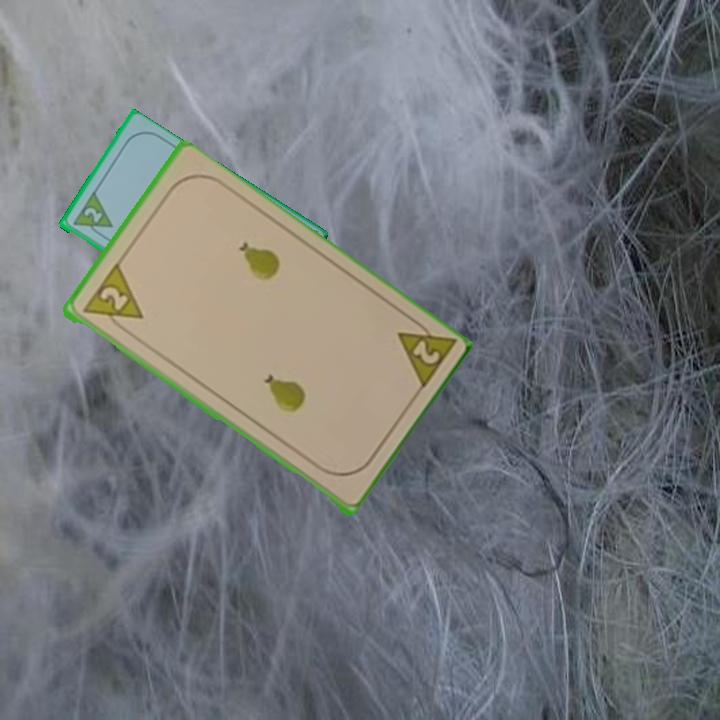2p: (392, 312, 458, 395), (78, 261, 146, 336), (69, 190, 115, 241)
